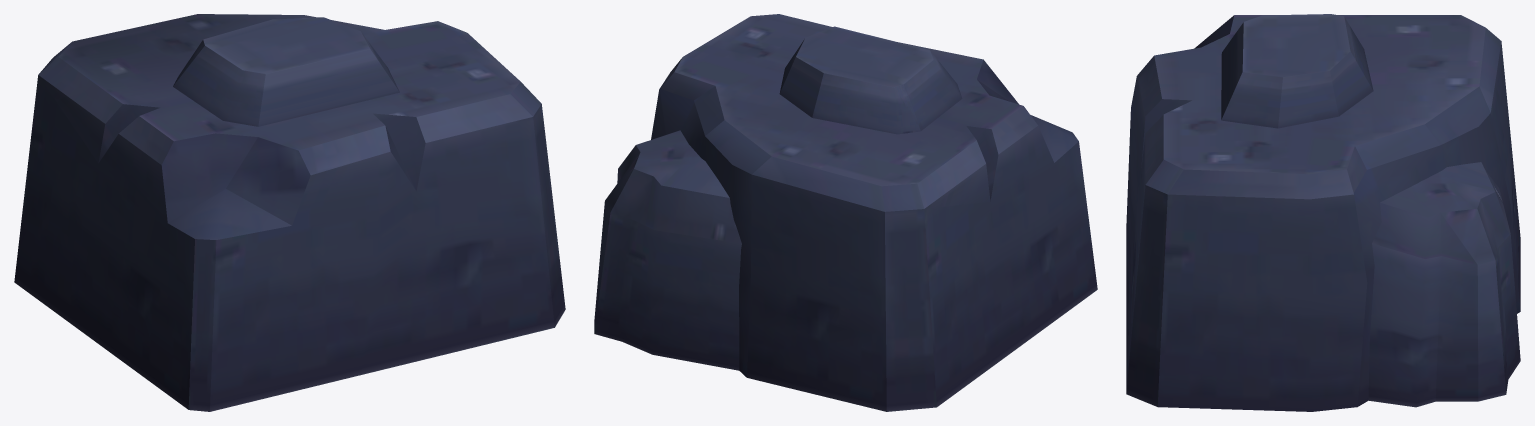
The model's file is demonRock (merge).fbx.
3 renders of one model, left to right at view 1: azimuth 30°, elevation 25°; view 2: azimuth 150°, elevation 25°; view 3: azimuth 270°, elevation 25°, orthographic. The views are drawn at different scales.
Visible parts, largest first — view 1: demonRock; view 2: demonRock; view 3: demonRock.
Boxes of the visible parts, x1,y1,x2,y2 form: demonRock: (14,14,565,411); demonRock: (594,14,1097,411); demonRock: (1126,14,1520,411).
Bounding box in the file's own units: 1.77 × 1.15 × 1.55.
Materials: 1 (1 with a texture image).
